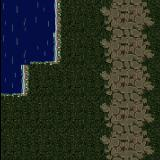Interaction: (48, 0, 70, 74), (0, 75, 35, 111), (13, 55, 47, 75)
Slow: (0, 0, 53, 61), (0, 61, 21, 90)
